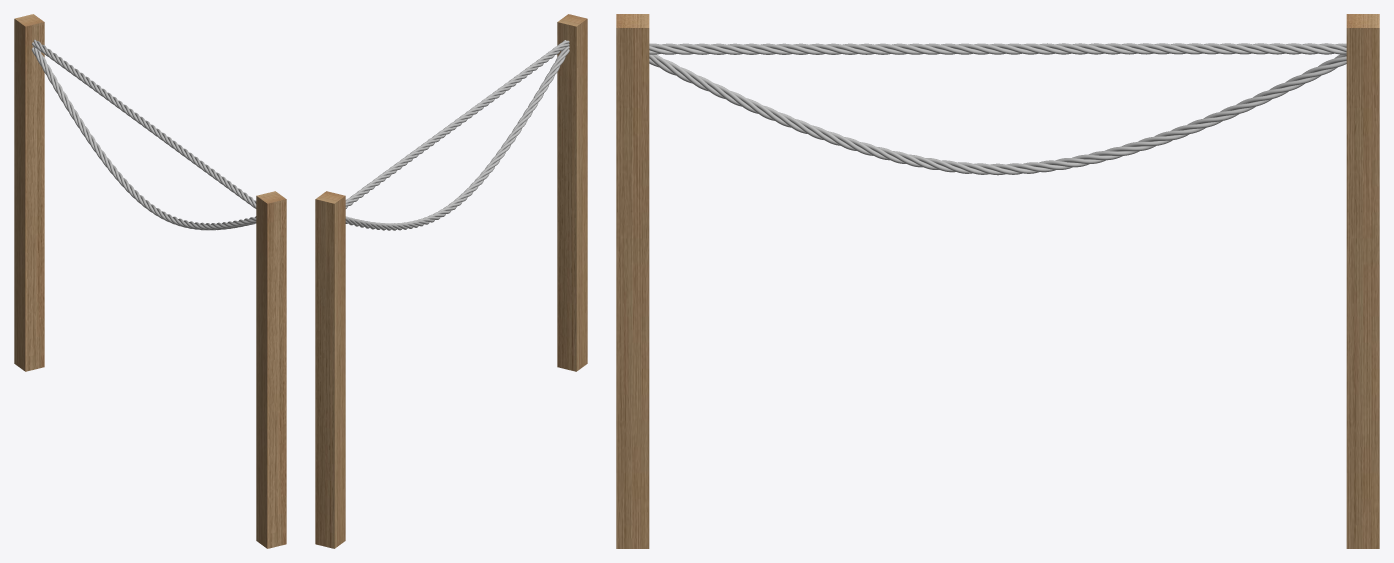
Rendered from rope.glb.
The picture shows the model from 3 angles, left to right: view 1: azimuth 30°, elevation 25°; view 2: azimuth 150°, elevation 25°; view 3: azimuth 270°, elevation 25°; orthographic projection. The views are drawn at different scales.
Parts seen in each view (by area): view 1: pCube1, pCube2, pCylinder15, pCylinder10; view 2: pCube2, pCube1, pCylinder15, pCylinder10; view 3: pCube1, pCube2, pCylinder15, pCylinder10.
Part boxes in pixels (x1=…): pCube1: x1=256, y1=191, x2=286, y2=548; pCube2: x1=14, y1=14, x2=44, y2=371; pCylinder15: x1=31, y1=47, x2=256, y2=230; pCylinder10: x1=32, y1=39, x2=256, y2=208; pCube2: x1=315, y1=191, x2=345, y2=548; pCube1: x1=557, y1=14, x2=587, y2=371; pCylinder15: x1=345, y1=46, x2=569, y2=230; pCylinder10: x1=345, y1=40, x2=569, y2=208; pCube1: x1=616, y1=14, x2=649, y2=548; pCube2: x1=1346, y1=14, x2=1379, y2=548; pCylinder15: x1=649, y1=54, x2=1346, y2=175; pCylinder10: x1=649, y1=43, x2=1346, y2=54.
Size of the model in its own units: 20 by 346 by 460.
2 materials, 1 textured.
